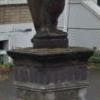Statue: (14, 4, 86, 64)
